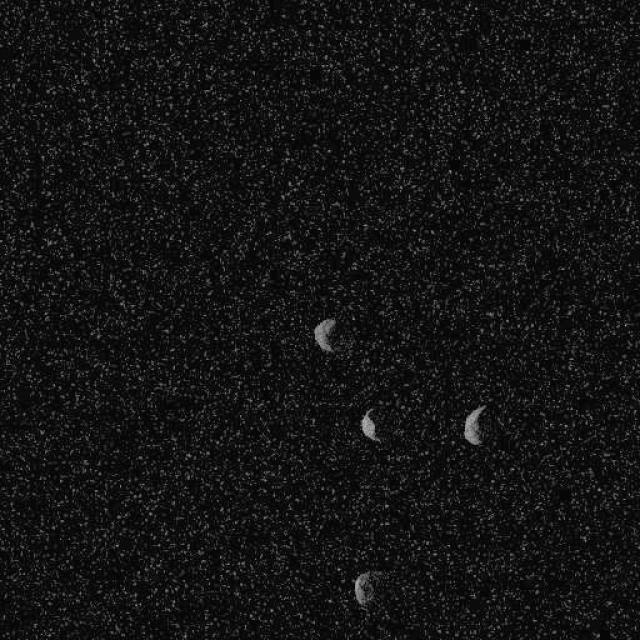D2: (462, 402, 488, 447), (313, 316, 337, 354), (353, 570, 375, 608), (359, 407, 380, 442)
